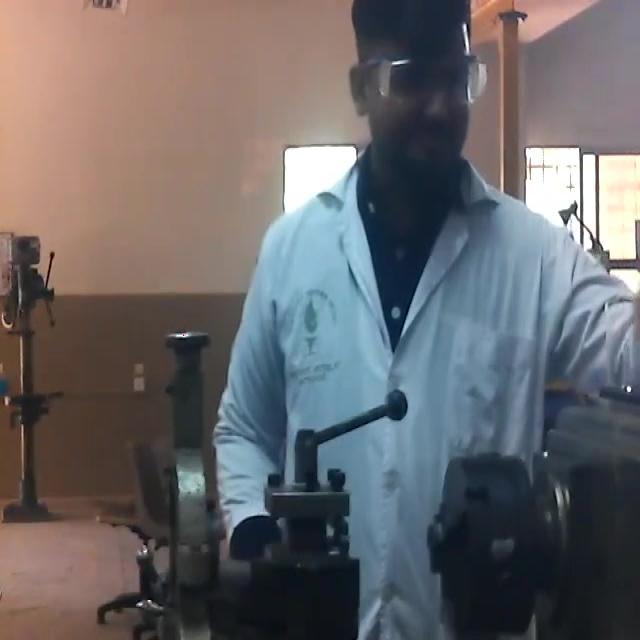googles: (372, 48, 488, 110)
labcoat: (213, 148, 640, 640)
